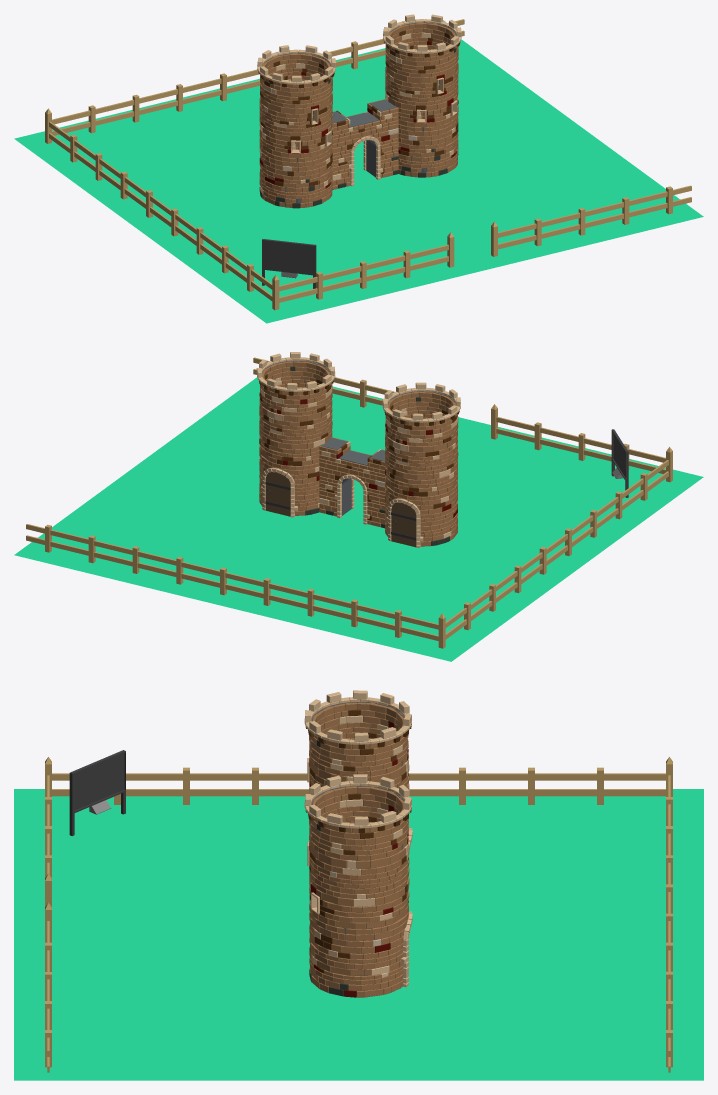
Rendered from region-23.glb.
3 renders of one model, top to bottom at view 1: azimuth 30°, elevation 25°; view 2: azimuth 150°, elevation 25°; view 3: azimuth 270°, elevation 25°, orthographic. The views are drawn at different scales.
Visible parts, largest first — view 1: base, wall-section-with-doorway, top-section-with-crenellation, top-section-with-crenellation.001, base-section-with-doorway, mid-section-with-three-slits, mid-section-with-three-slits.001, base-section-with-doorway.001, fence-mid-piece-x5.002, fence-mid-piece-x5.001, fence-mid-piece-x3.003, fence-mid-piece-x3 (+7 smaller); view 2: base, wall-section-with-doorway, top-section-with-crenellation, top-section-with-crenellation.001, mid-section-with-three-slits, mid-section-with-three-slits.001, fence-mid-piece-x5.002, base-section-with-doorway, fence-mid-piece-x4, fence-mid-piece-x5.001, base-section-with-doorway.001, fence-mid-piece-x3 (+7 smaller); view 3: base, top-section-with-crenellation.001, top-section-with-crenellation, mid-section-with-three-slits.001, base-section-with-doorway.001, fence-mid-piece-x3.001, fence-mid-piece-x5.001, info-board-assembly-large, mid-section-with-three-slits, fence-mid-piece-x5.002, fence-mid-piece-x4, fence-corner-piece.001 (+1 smaller).
Part boxes in pixels (left/top/right/bottom): base: left=14, top=39, right=703, bottom=323; wall-section-with-doorway: left=332, top=99, right=398, bottom=189; top-section-with-crenellation: left=257, top=45, right=335, bottom=108; top-section-with-crenellation.001: left=383, top=14, right=461, bottom=77; base-section-with-doorway: left=259, top=142, right=332, bottom=208; mid-section-with-three-slits: left=259, top=79, right=332, bottom=157; mid-section-with-three-slits.001: left=385, top=49, right=458, bottom=127; base-section-with-doorway.001: left=398, top=111, right=458, bottom=177; fence-mid-piece-x5.002: left=70, top=69, right=259, bottom=133; fence-mid-piece-x5.001: left=136, top=185, right=263, bottom=293; fence-mid-piece-x3.003: left=516, top=196, right=647, bottom=246; fence-mid-piece-x3: left=297, top=249, right=429, bottom=299; base: left=14, top=377, right=703, bottom=661; wall-section-with-doorway: left=319, top=437, right=385, bottom=528; top-section-with-crenellation: left=382, top=382, right=460, bottom=446; top-section-with-crenellation.001: left=256, top=352, right=335, bottom=415; mid-section-with-three-slits: left=385, top=417, right=458, bottom=496; mid-section-with-three-slits.001: left=259, top=387, right=332, bottom=465; fence-mid-piece-x5.002: left=201, top=566, right=420, bottom=637; base-section-with-doorway: left=385, top=481, right=457, bottom=547; fence-mid-piece-x4: left=26, top=524, right=201, bottom=584; fence-mid-piece-x5.001: left=530, top=468, right=657, bottom=576; base-section-with-doorway.001: left=259, top=452, right=319, bottom=517; fence-mid-piece-x3: left=516, top=421, right=647, bottom=469; base: left=14, top=789, right=703, bottom=1080; top-section-with-crenellation.001: left=304, top=774, right=411, bottom=860; top-section-with-crenellation: left=304, top=690, right=411, bottom=776; mid-section-with-three-slits.001: left=307, top=821, right=409, bottom=929; base-section-with-doorway.001: left=309, top=910, right=412, bottom=997; fence-mid-piece-x3.001: left=428, top=767, right=634, bottom=804; fence-mid-piece-x5.001: left=114, top=767, right=427, bottom=804; info-board-assembly-large: left=69, top=750, right=125, bottom=835; mid-section-with-three-slits: left=307, top=738, right=409, bottom=826; fence-mid-piece-x5.002: left=666, top=788, right=672, bottom=942; fence-mid-piece-x4: left=666, top=934, right=672, bottom=1072; fence-corner-piece.001: left=635, top=757, right=672, bottom=796.
Size of the model in its own units: 20 by 5.77 by 20.
